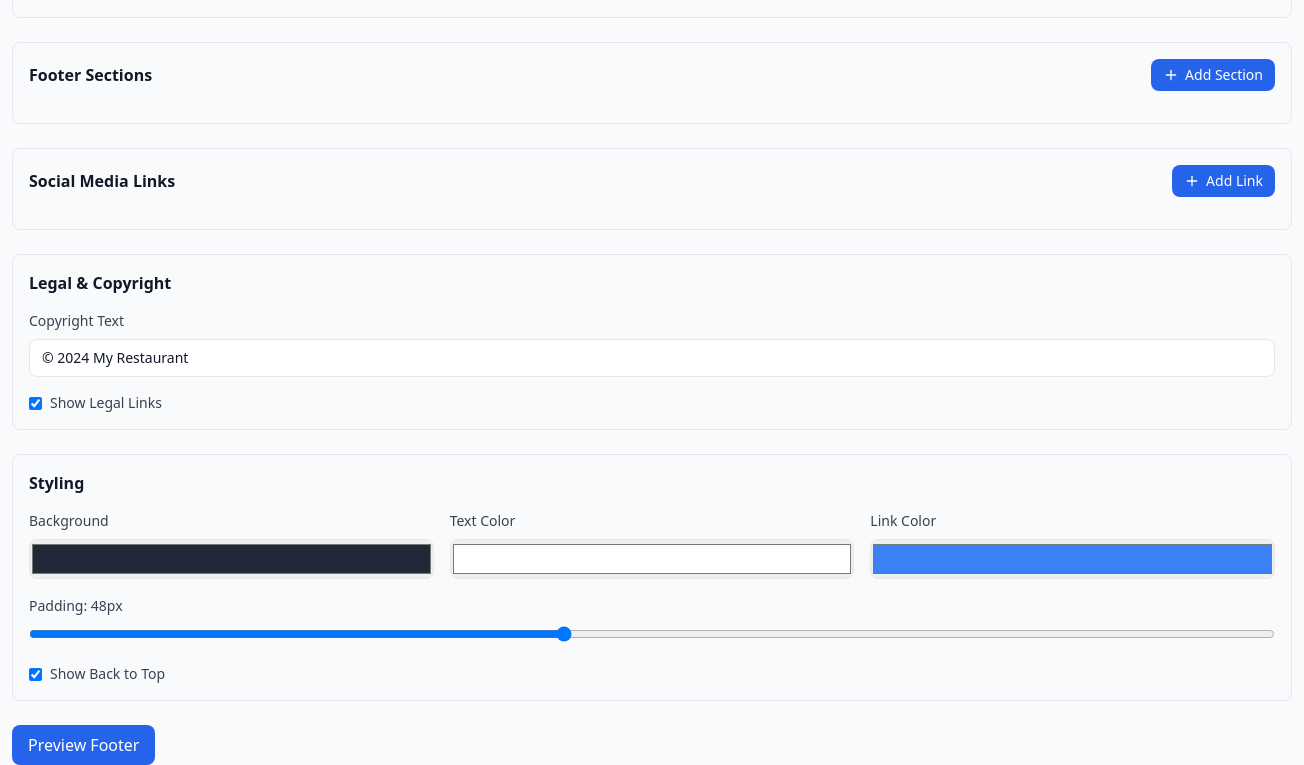
Scenario: FooterEditor › Preview › should display company info in preview
(page scrolled)
Click the button "Preview Footer" at (84, 745), box [12,725,156,764]
(page scrolled)
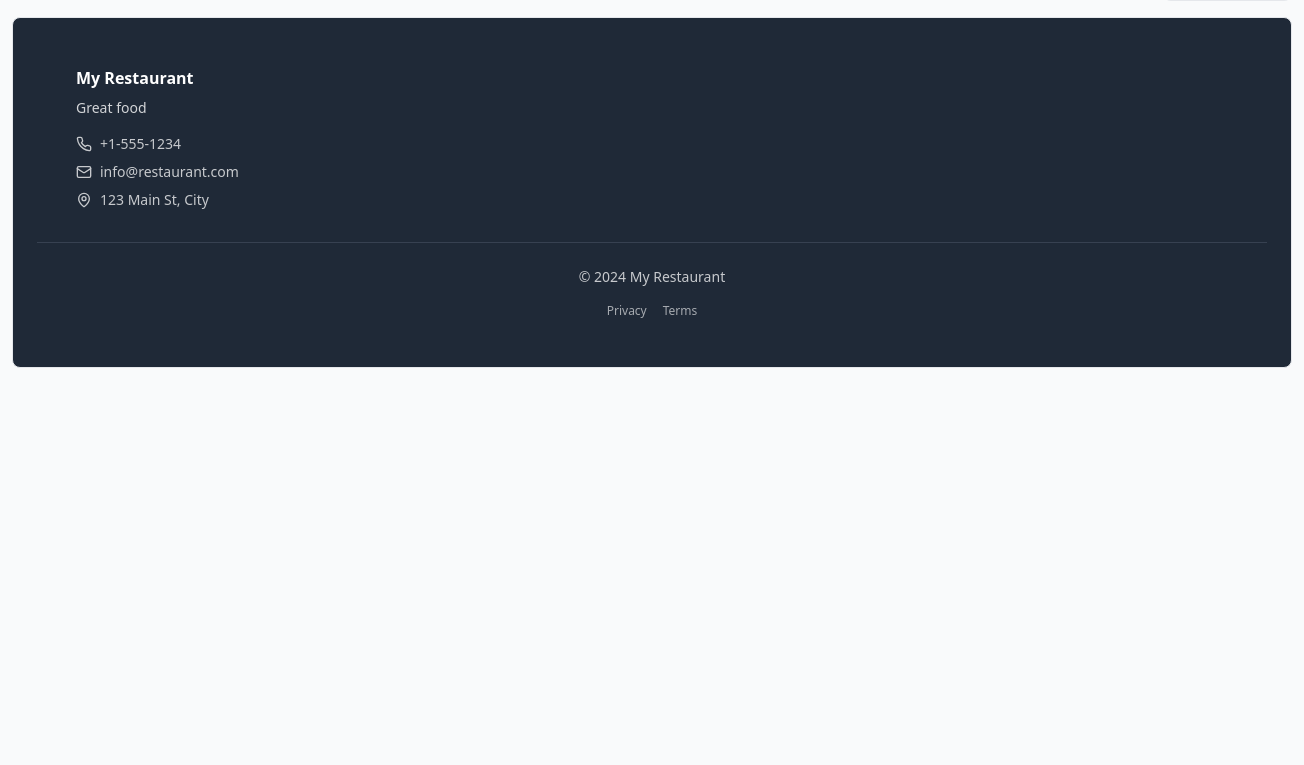
Now the heading "My Restaurant" is shown, box [76,67,194,89]
Now the text "Great food" is shown, box [76,98,146,117]
